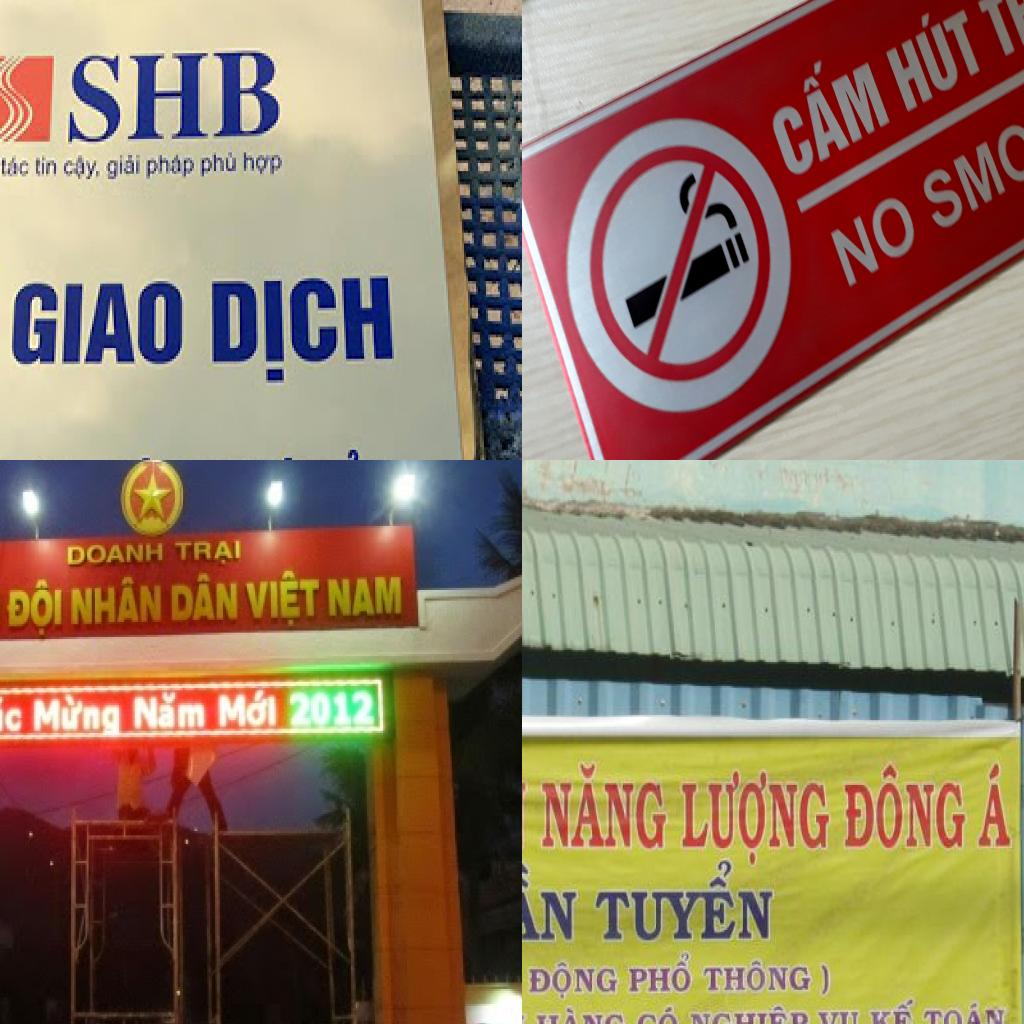text: (66, 45, 286, 150), (208, 270, 400, 388), (919, 51, 1024, 234), (759, 42, 890, 180), (8, 276, 188, 370), (593, 860, 779, 949), (680, 763, 830, 867), (538, 759, 668, 855), (879, 0, 985, 113), (843, 759, 964, 855), (830, 190, 922, 288), (522, 860, 583, 948), (69, 575, 164, 628), (700, 954, 812, 996), (242, 571, 322, 628), (33, 694, 122, 740), (526, 960, 620, 1002), (170, 573, 241, 626), (974, 758, 1014, 850), (4, 579, 64, 637), (290, 690, 375, 729), (327, 577, 404, 620), (626, 950, 694, 996), (64, 538, 166, 568), (133, 692, 207, 733), (685, 1003, 812, 1024), (218, 690, 279, 729), (921, 999, 1010, 1024), (174, 536, 242, 568), (142, 150, 198, 184), (534, 1005, 627, 1024), (866, 995, 916, 1024), (242, 147, 286, 179), (104, 150, 144, 184), (198, 150, 240, 182), (62, 152, 102, 184), (634, 1003, 679, 1024), (0, 694, 23, 735), (0, 152, 32, 181), (815, 1006, 861, 1024), (34, 152, 60, 179), (816, 961, 833, 1000)
